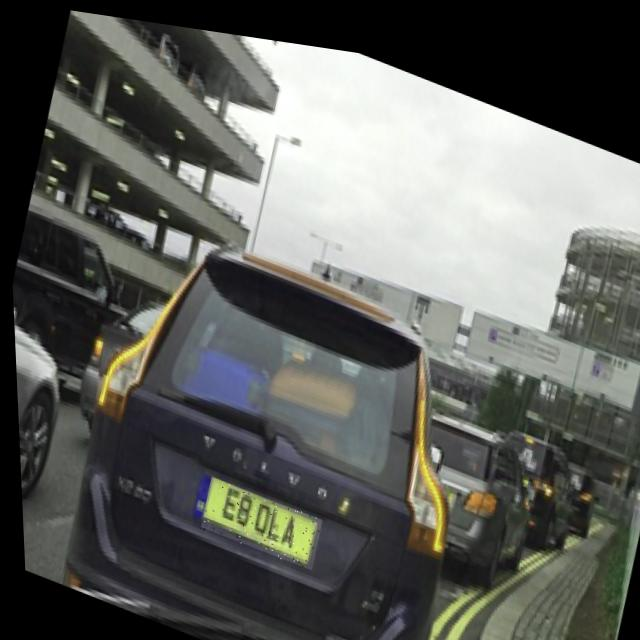license_plate: (193, 469, 319, 565)
